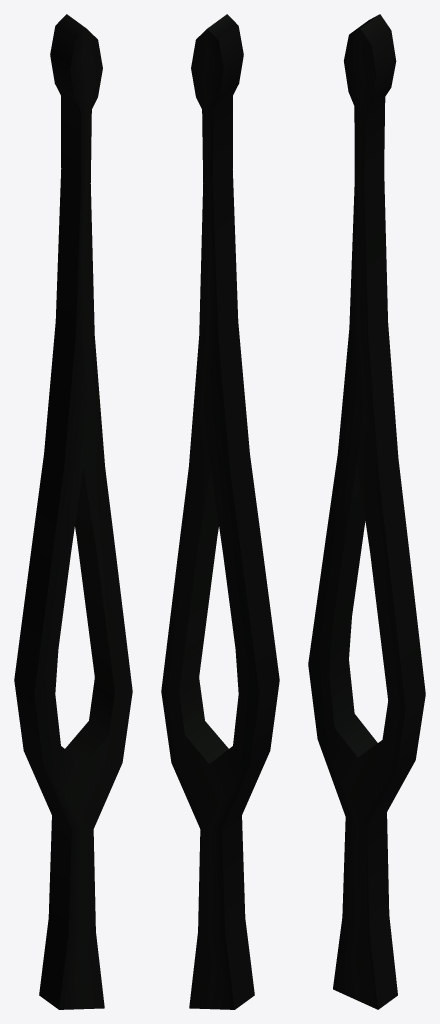
The model's file is ManecillaSegundos.obj.
The picture shows the model from 3 angles, left to right: view 1: azimuth 30°, elevation 25°; view 2: azimuth 150°, elevation 25°; view 3: azimuth 330°, elevation 25°; orthographic projection.
Visible parts, largest first — view 1: segundero_Material_#3; view 2: segundero_Material_#3; view 3: segundero_Material_#3.
Part boxes in pixels (x1,y1,x2,y2): segundero_Material_#3: [14, 14, 132, 1009]; segundero_Material_#3: [161, 14, 279, 1009]; segundero_Material_#3: [308, 14, 425, 1009].
Bounding box in the file's own units: 0.0209 × 0.1999 × 0.00737.
